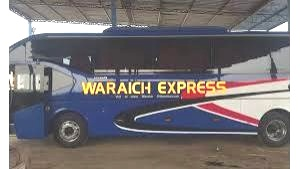bus: (9, 24, 290, 146)
